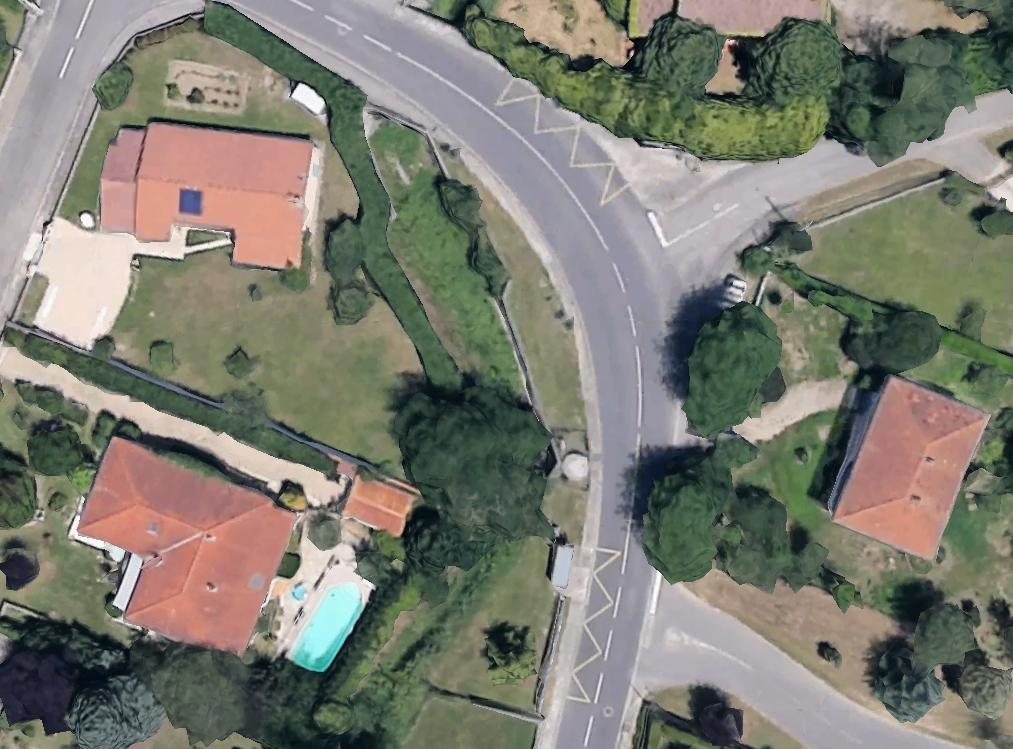maison: (49, 432, 302, 667), (93, 114, 314, 271), (817, 367, 990, 562)
